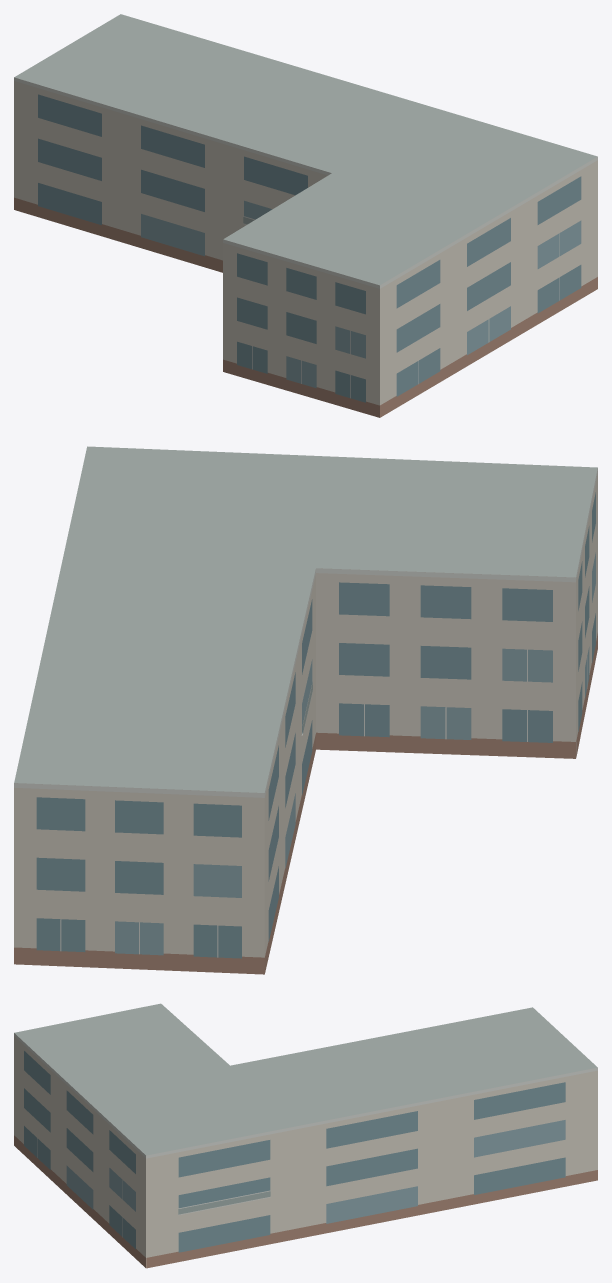
File: survey-upis-32509051.glb
The picture shows the model from 3 angles, top to bottom: view 1: azimuth 30°, elevation 25°; view 2: azimuth 150°, elevation 25°; view 3: azimuth 270°, elevation 25°; orthographic projection. The views are drawn at different scales.
Parts seen in each view (by area): view 1: survey-upis-32509051.tmp; view 2: survey-upis-32509051.tmp; view 3: survey-upis-32509051.tmp.
Part boxes in pixels (box(x1,y1,x2,y2)): survey-upis-32509051.tmp: box(14, 14, 597, 417); survey-upis-32509051.tmp: box(14, 446, 597, 974); survey-upis-32509051.tmp: box(14, 1003, 597, 1268).
Bounding box in the file's own units: 26.46 × 9.15 × 42.91.
